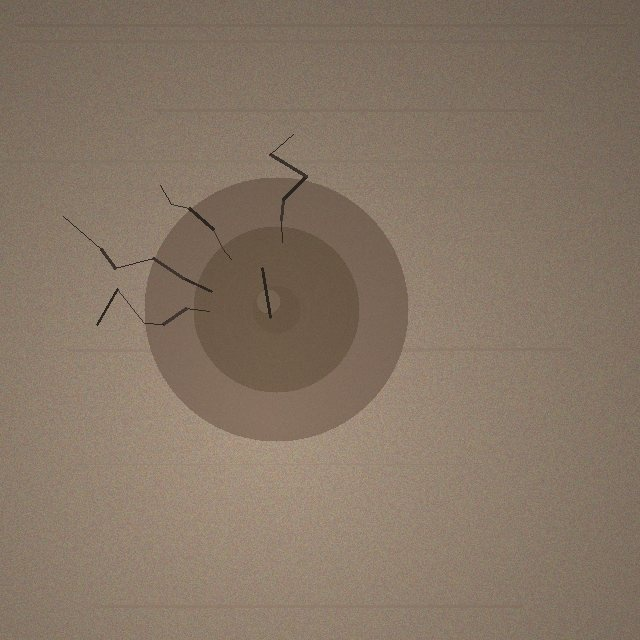crack: (144, 177, 408, 441)
